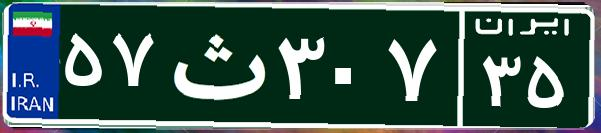0: (330, 28, 385, 110)
3: (273, 28, 330, 110), (475, 38, 525, 113)
5: (57, 26, 110, 107), (525, 38, 570, 115)
7: (385, 28, 445, 110), (110, 28, 158, 105)
ث: (158, 15, 273, 115)
